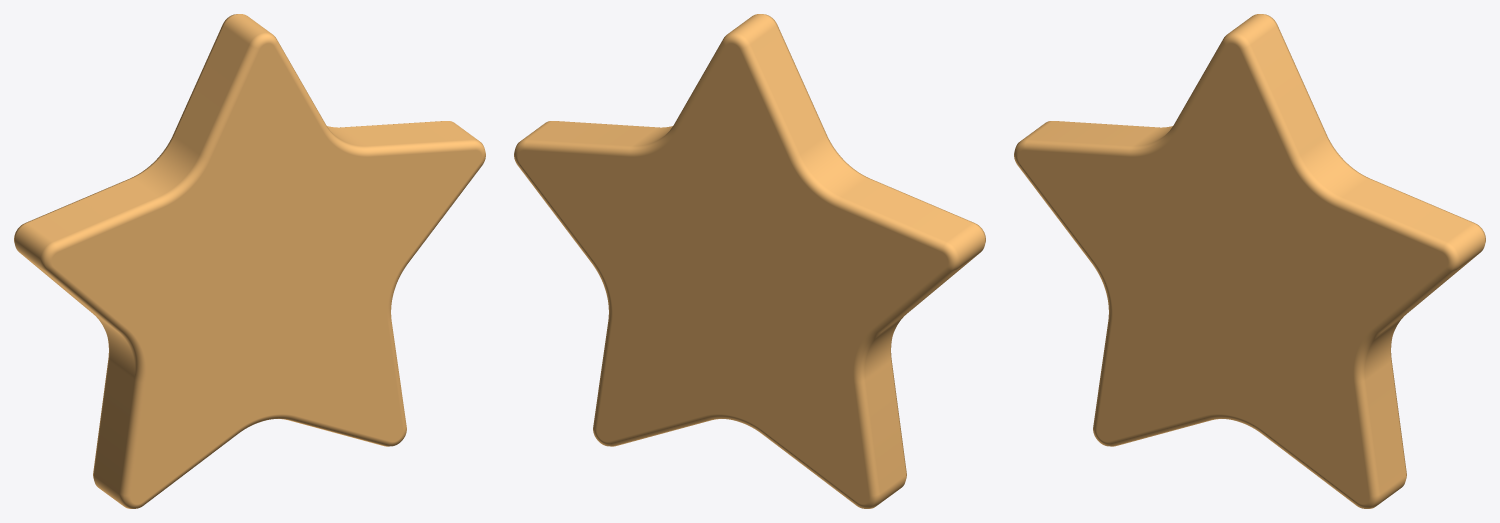
Rendered from star.glb.
3 views of the same model, side by side, from view 1: azimuth 30°, elevation 25°; view 2: azimuth 150°, elevation 25°; view 3: azimuth 330°, elevation 25° (orthographic).
Visible parts, largest first — view 1: Star; view 2: Star; view 3: Star.
Part boxes in pixels (bbox=[...]): Star: bbox=[14, 14, 485, 508]; Star: bbox=[514, 14, 985, 508]; Star: bbox=[1014, 14, 1485, 508].
Size of the model in its own units: 6.07 by 5.79 by 0.8.
